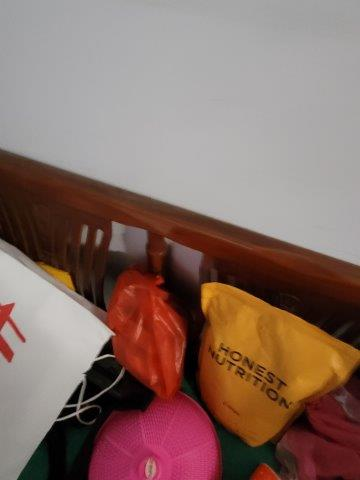plastik: (107, 272, 189, 397)
